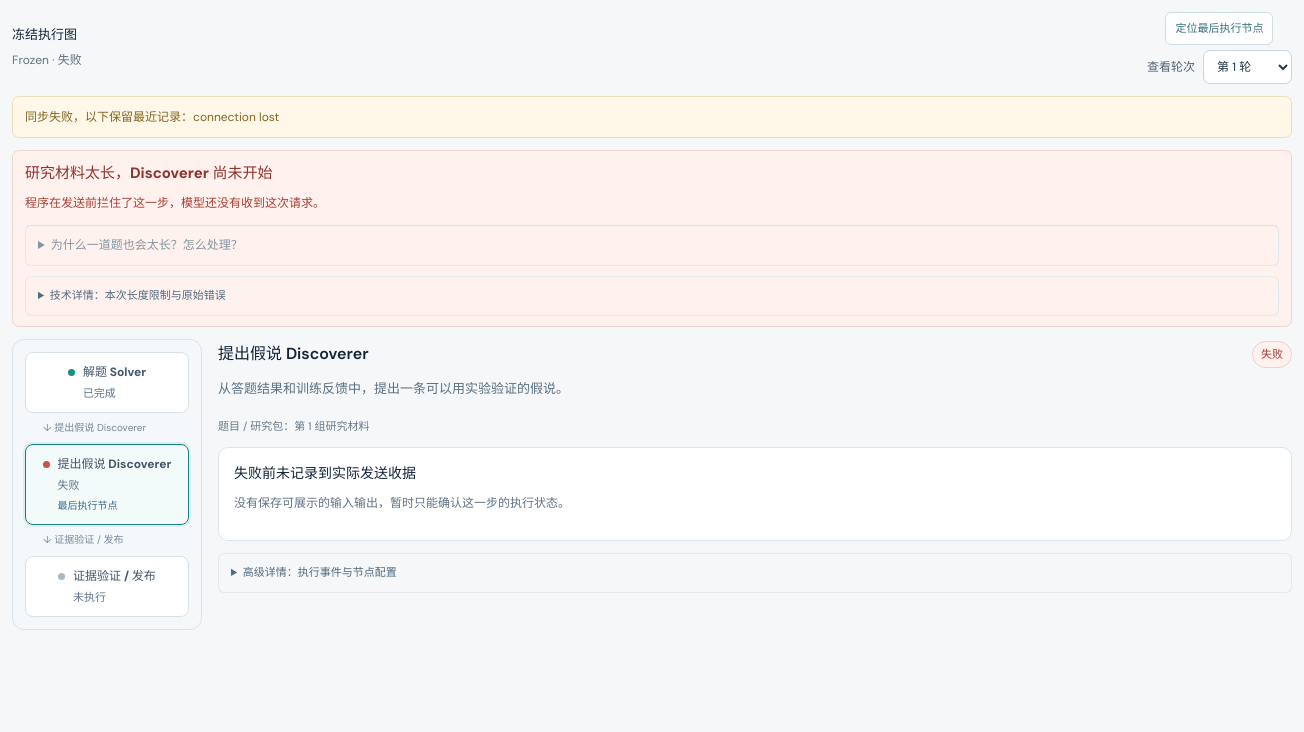
Test: shows unstarted configuration honestly and stale sync warning without losing receipts
Expected: the text "同步失败，以下保留最近记录：connection lost" is shown, left=12, top=96, right=1292, bottom=138
Click the button with aria-label "证据验证 / 发布 · 未执行". click: (107,586)
box: left=25, top=556, right=189, bottom=617
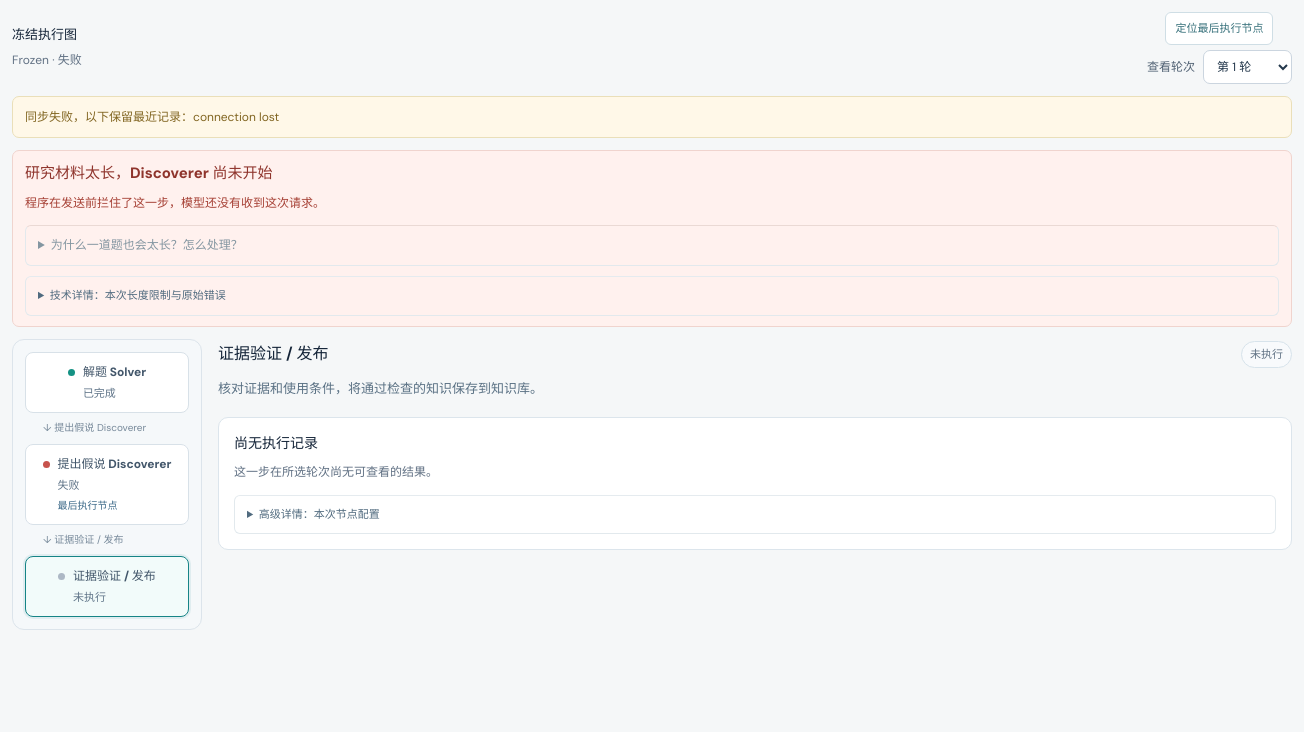
Expected: the heading "尚无执行记录" is shown, left=234, top=434, right=318, bottom=452
